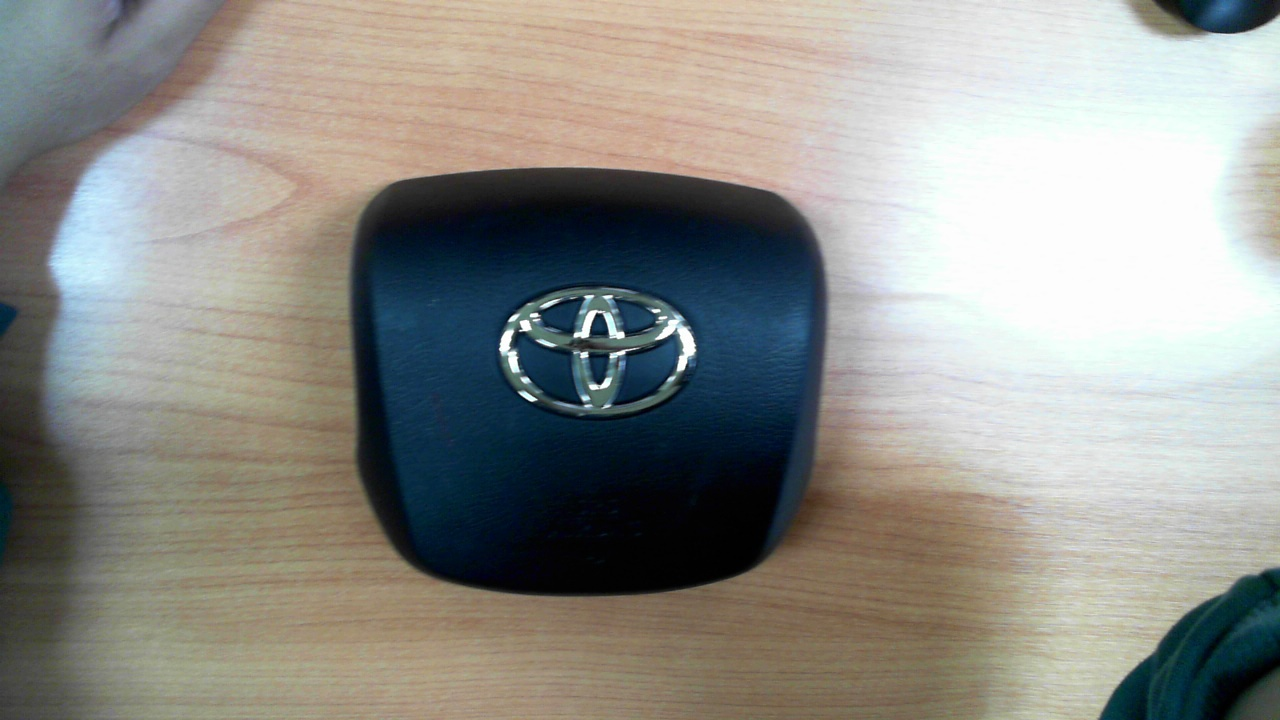Airbag: (349, 166, 829, 599)
Toyota: (499, 287, 697, 416)
